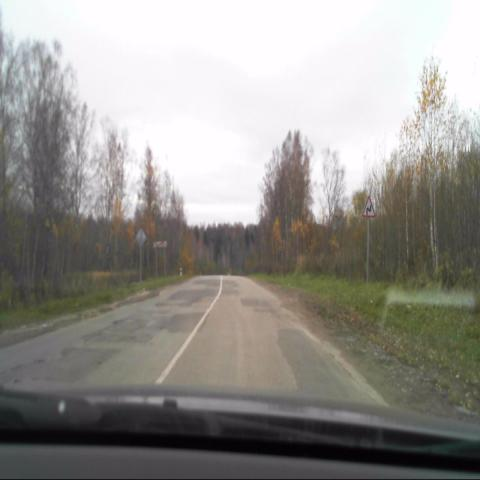1_12: (362, 195, 376, 218)
